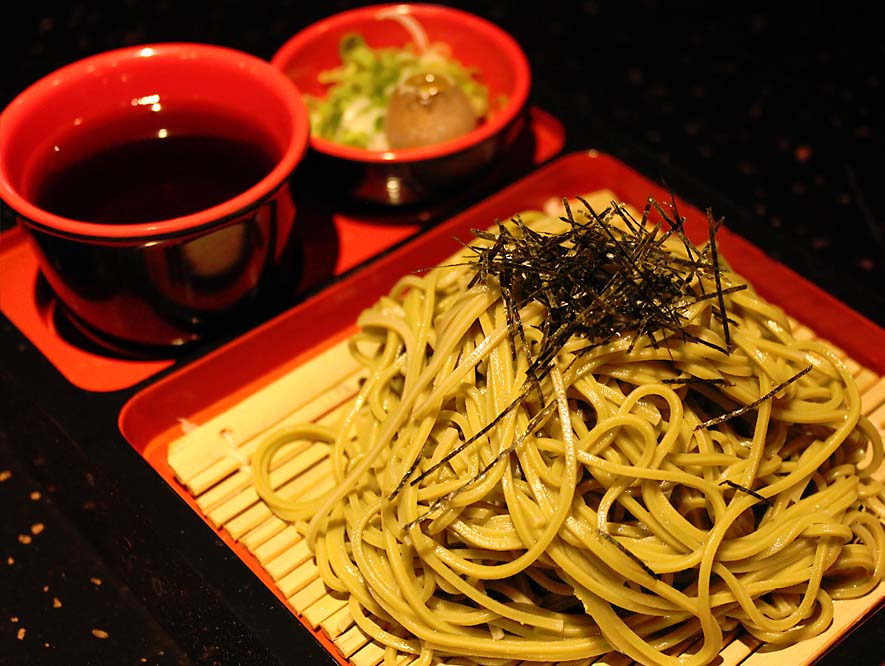Soba: (326, 201, 885, 655)
